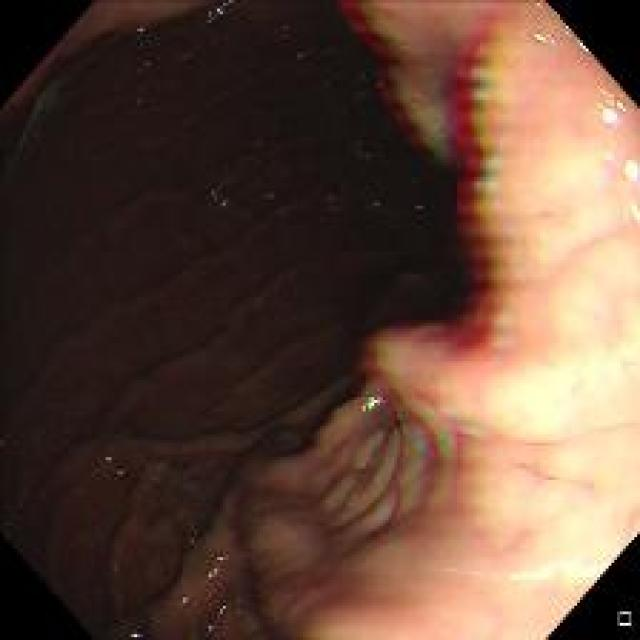color misalignment: (342, 1, 471, 186), (358, 341, 474, 526), (448, 20, 511, 354), (205, 179, 236, 220), (202, 550, 229, 582), (125, 19, 152, 44), (202, 1, 229, 19), (98, 451, 114, 470), (110, 465, 126, 484), (215, 601, 230, 619), (196, 621, 215, 635), (176, 594, 194, 605)
contrast: (4, 6, 480, 630)
saturation: (502, 106, 631, 616)
specularity: (598, 101, 619, 125), (622, 158, 638, 179), (360, 395, 382, 409), (532, 30, 549, 44), (612, 98, 626, 112), (629, 201, 638, 222)
